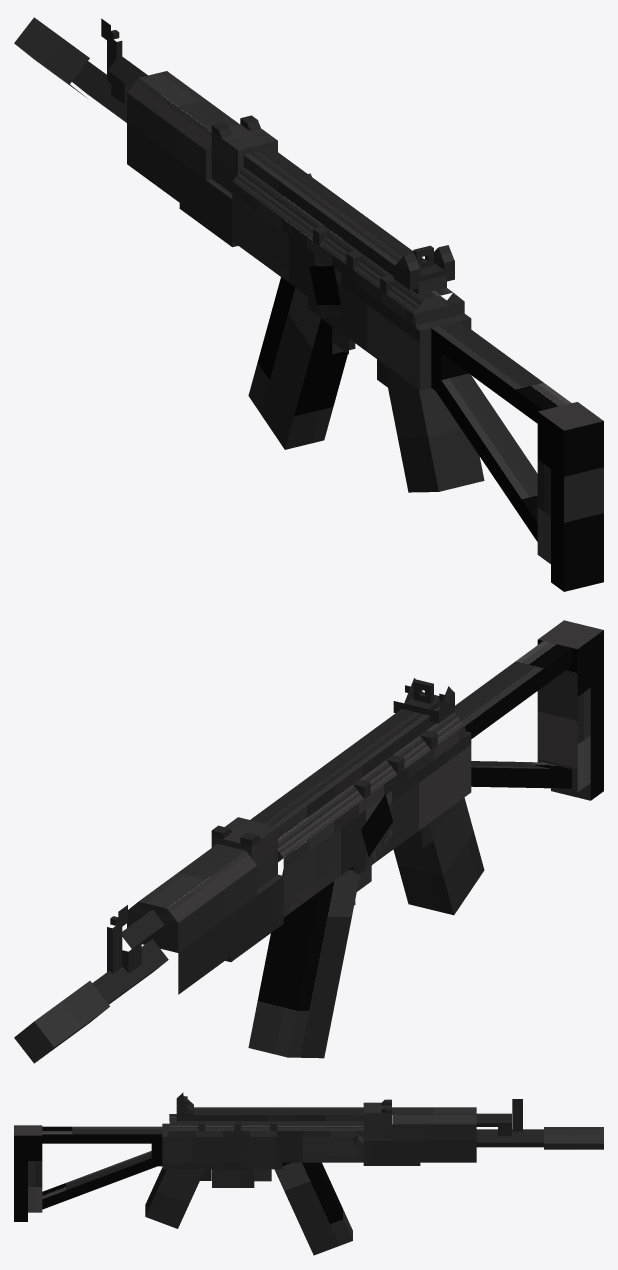
Rendered from aurorasarsenal_ak_74m.glb.
3 renders of one model, top to bottom at view 1: azimuth 30°, elevation 25°; view 2: azimuth 150°, elevation 25°; view 3: azimuth 270°, elevation 25°, orthographic. The views are drawn at different scales.
Parts seen in each view (by area): view 1: Gun; view 2: Gun; view 3: Gun.
Boxes of the visible parts, x1,y1,x2,y2 form: Gun: (14,17,603,591); Gun: (14,620,603,1063); Gun: (14,1092,603,1255).
Bounding box in the file's own units: 0.0806 × 0.2999 × 1.04.
Materials: 1 (1 with a texture image).
